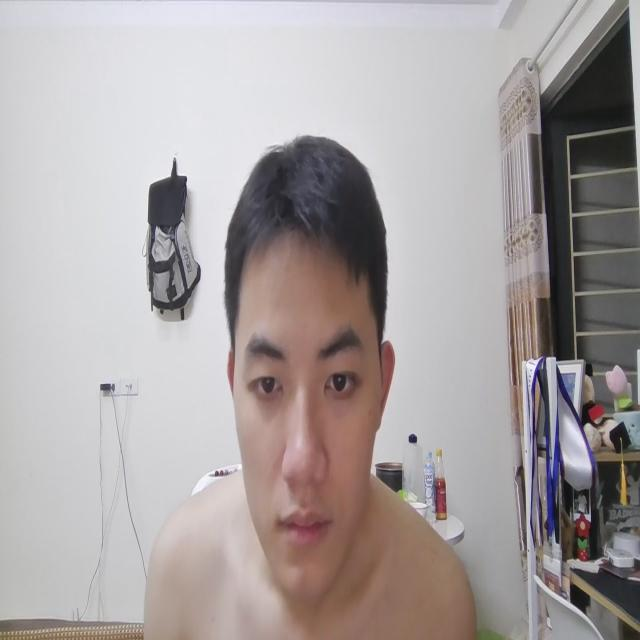student: (156, 130, 449, 640)
